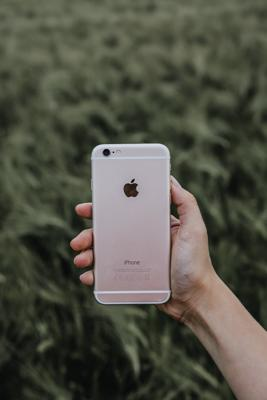Mobile Phone: (90, 142, 172, 305)
